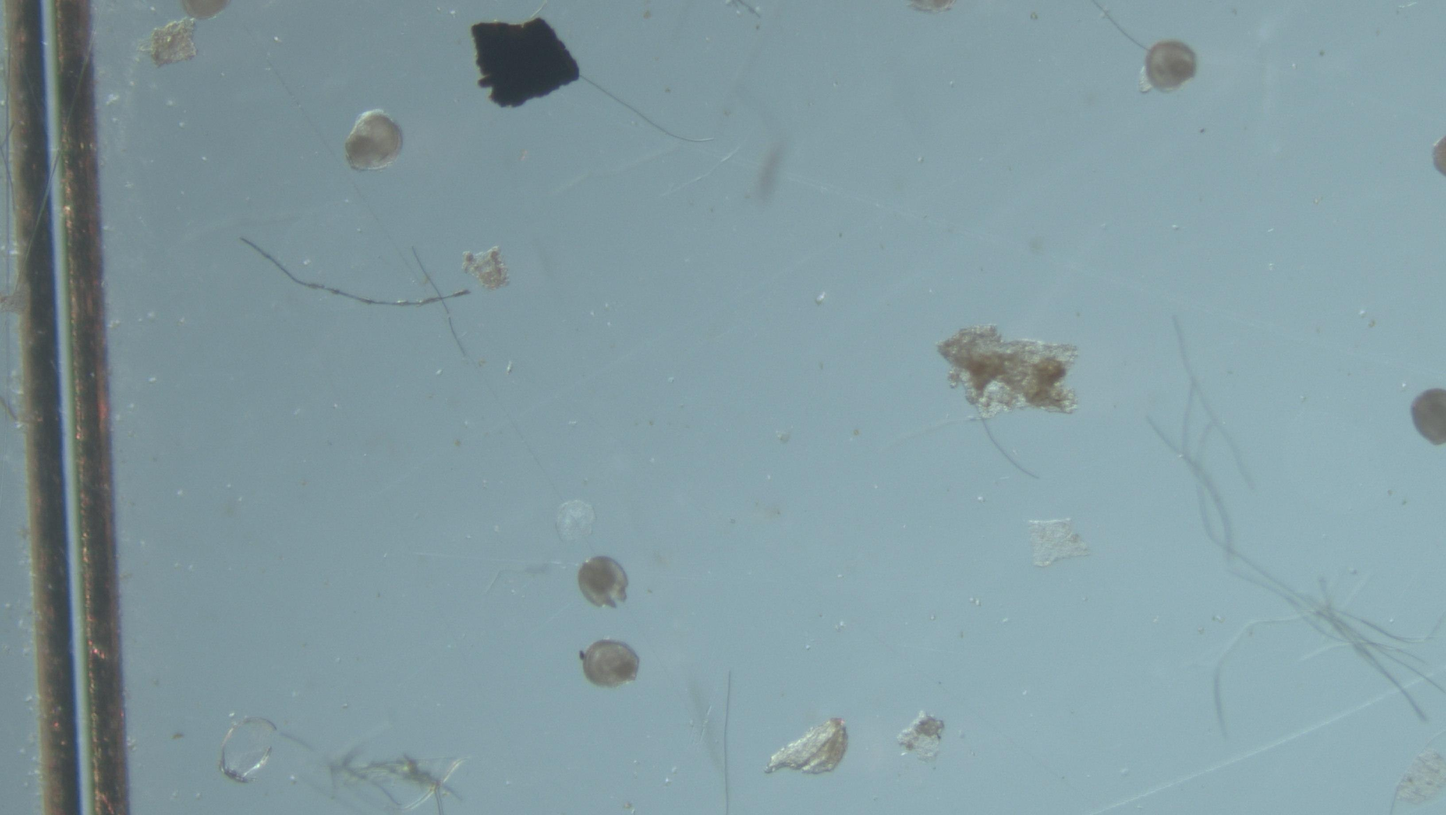live: (345, 109, 402, 171), (579, 640, 639, 688), (578, 556, 629, 608), (1145, 41, 1197, 92), (1412, 389, 1446, 446)
